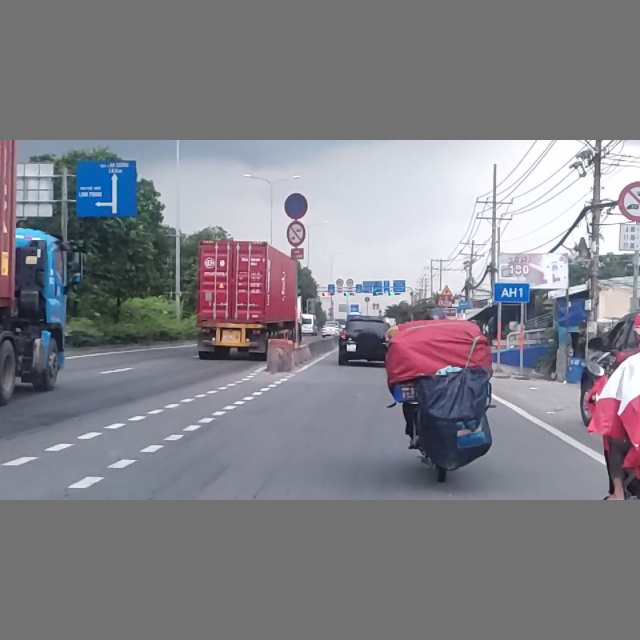P.111: (285, 221, 307, 245)
P.130: (284, 192, 308, 219)
